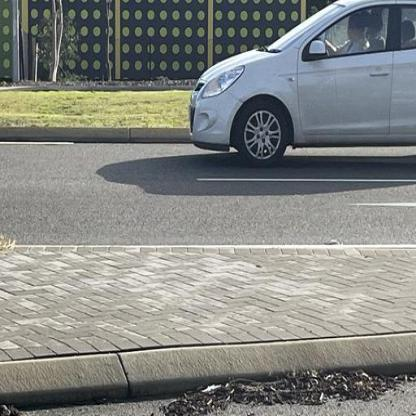Tire: (238, 100, 288, 167)
